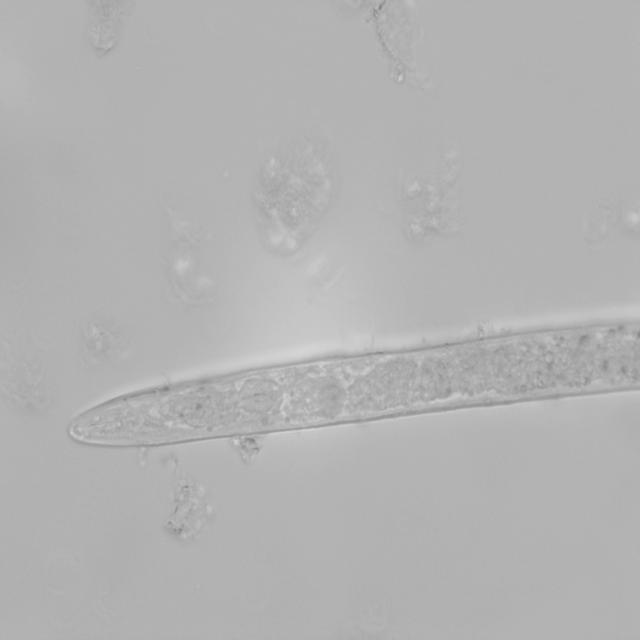Meloidogyne: (57, 300, 640, 458)
